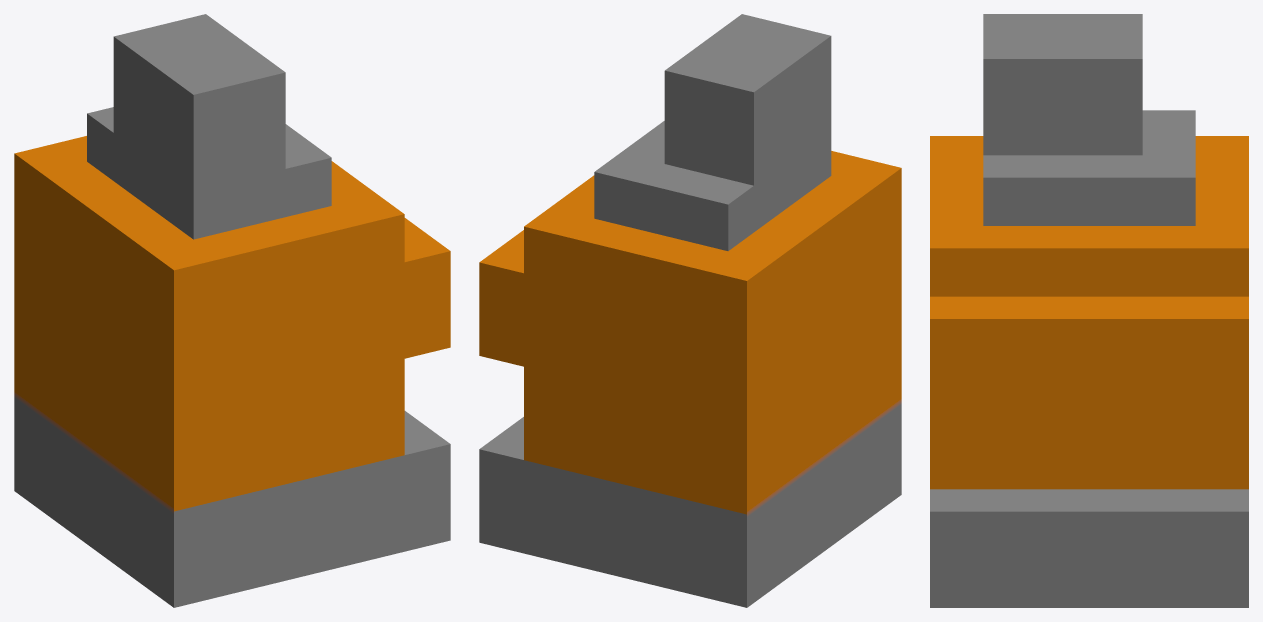
Rendered from StazioneSbarra.fbx.
The picture shows the model from 3 angles, left to right: view 1: azimuth 30°, elevation 25°; view 2: azimuth 150°, elevation 25°; view 3: azimuth 270°, elevation 25°; orthographic projection. The views are drawn at different scales.
Parts seen in each view (by area): view 1: pl0; view 2: pl0; view 3: pl0.
Boxes of the visible parts, <box> form: pl0: <box>14,14,450,607</box>; pl0: <box>479,14,901,607</box>; pl0: <box>930,14,1248,607</box>.
Bounding box in the file's own units: 6 × 6 × 10.
Materials: 1 (1 with a texture image).
